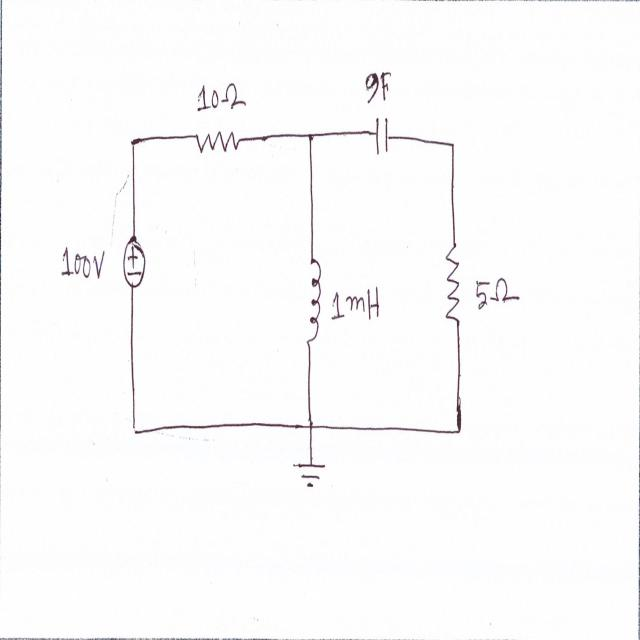capacitor: (374, 102, 392, 164)
ground: (288, 453, 330, 494)
inductor: (304, 252, 324, 354)
resistor: (444, 240, 466, 327), (196, 124, 241, 162)
voltage_source: (123, 225, 147, 293)
